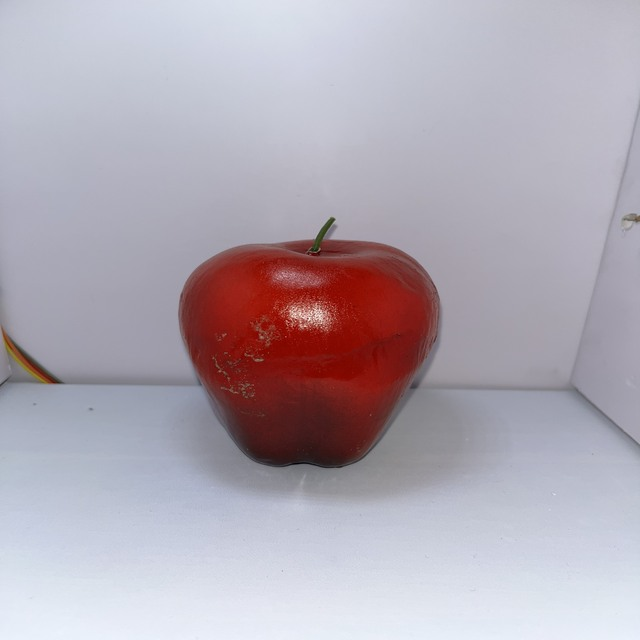Tao: (174, 229, 445, 476)
